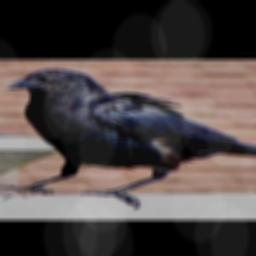Crow: (0, 68, 256, 209)
